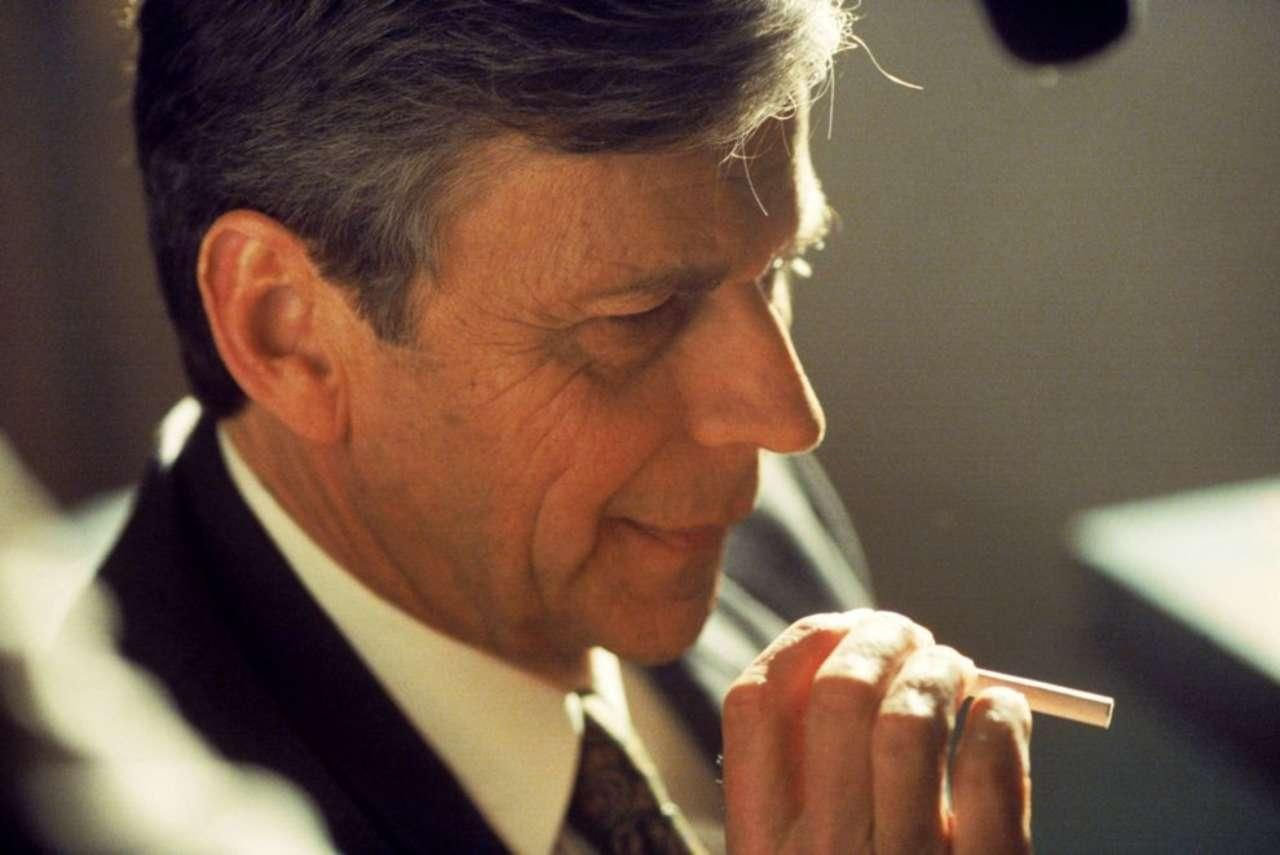cigarette: (964, 655, 1129, 734)
